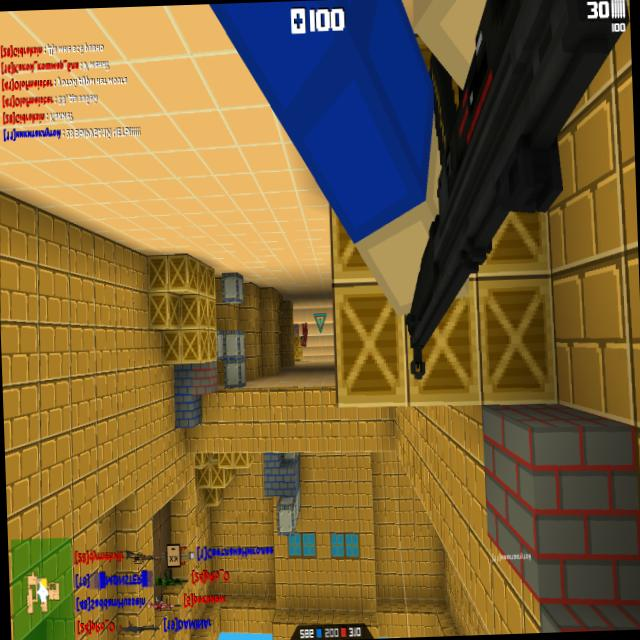enemy: (299, 322, 308, 348)
